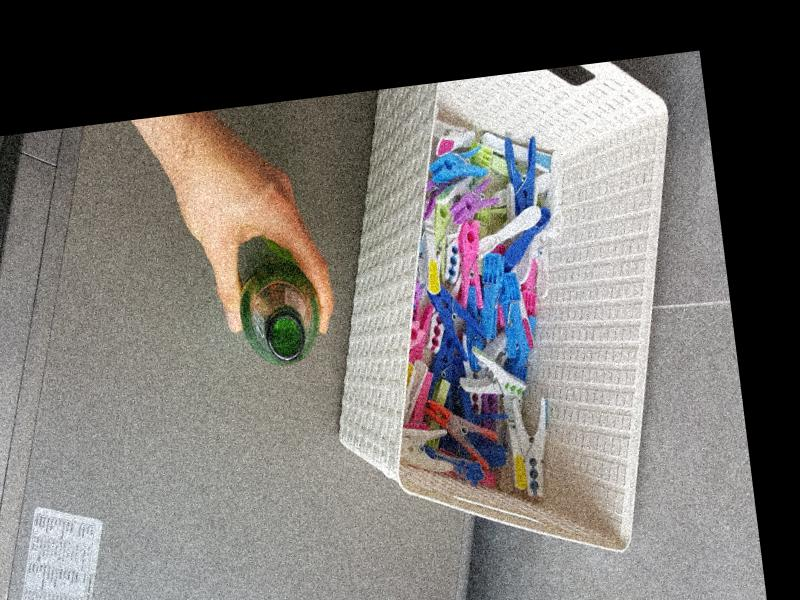Beer: (233, 249, 325, 370)
